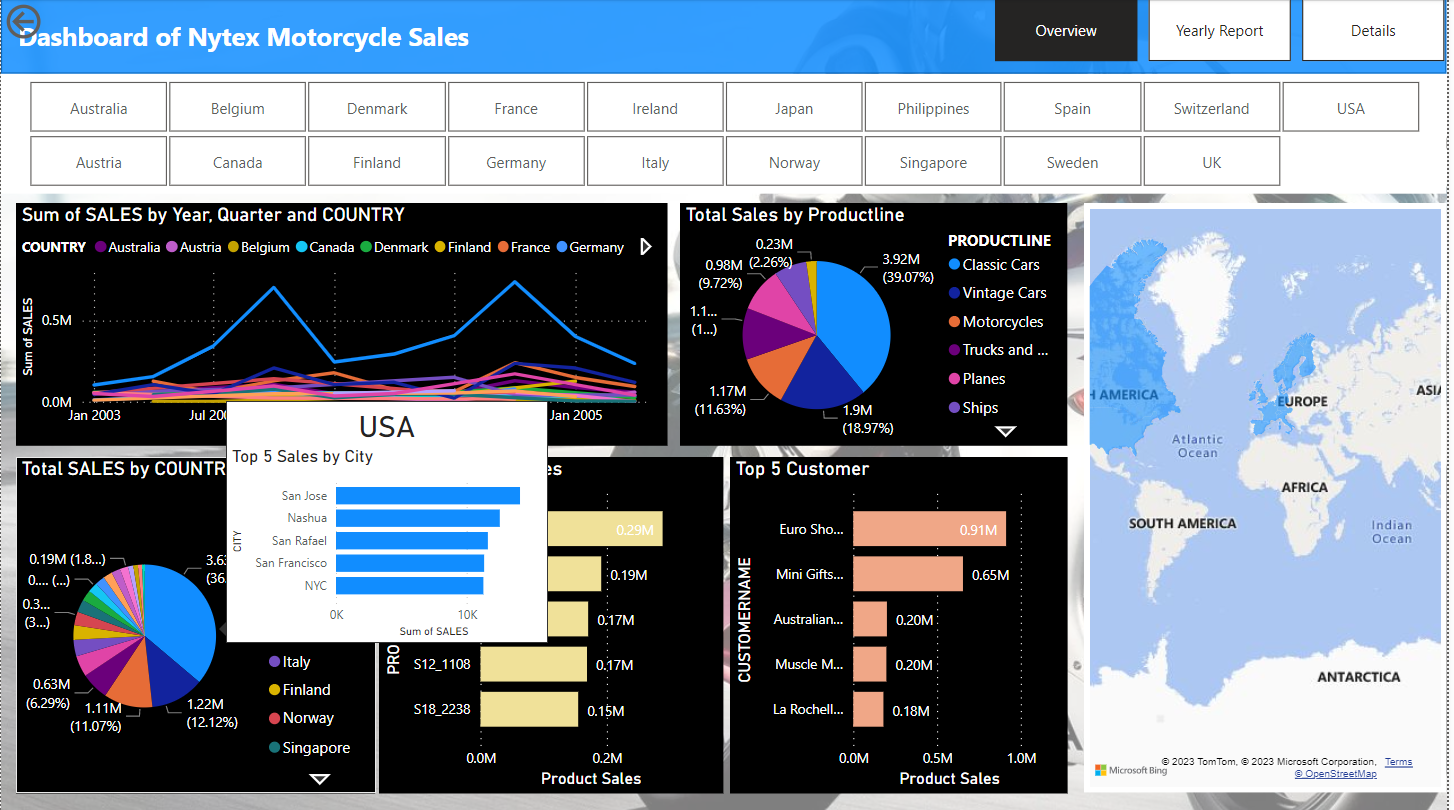

This screenshot's page, from the dashboard's own definition file:
{"tool":"powerbi","page":{"name":"Overview","canvas":[1280,720],"ordinal":0},"visuals":[{"type":"shape","title":"Data Analysis for Motorcycle Sales","box":[0,0,1280,66.1],"z":0},{"type":"pieChart","title":"Total SALES by COUNTRY","fields":{"Category":["sales_data_sample.COUNTRY"],"Y":["Sum(sales_data_sample.SALES)"]},"box":[13.6,405.6,318.1,297.6],"z":1000},{"type":"filledMap","fields":{"Category":["sales_data_sample.COUNTRY"]},"box":[959,180.9,321,522.3],"z":2000},{"type":"clusteredBarChart","title":"Top 5 Products Sales","fields":{"Category":["sales_data_sample.PRODUCTCODE"],"Y":["Sum(sales_data_sample.SALES)"]},"box":[334.6,405.6,305.4,297.6],"z":3000},{"type":"clusteredBarChart","title":"Top 5 Customer","fields":{"Y":["Sum(sales_data_sample.SALES)"],"Category":["sales_data_sample.CUSTOMERNAME"]},"box":[645.8,405.6,298.6,297.6],"z":4000},{"type":"lineChart","fields":{"Category":["sales_data_sample.ORDERDATE.Variation.Date Hierarchy.Year","sales_data_sample.ORDERDATE.Variation.Date Hierarchy.Quarter"],"Y":["Sum(sales_data_sample.SALES)"],"Series":["sales_data_sample.COUNTRY"]},"box":[13.6,180.9,576.8,215],"z":5000},{"type":"slicer","fields":{"Values":["sales_data_sample.COUNTRY"]},"box":[0,66.1,1280,106],"z":6000},{"type":"pieChart","title":"Total Sales by Productline","fields":{"Y":["Sum(sales_data_sample.SALES)"],"Category":["sales_data_sample.PRODUCTLINE"]},"box":[601.1,180.9,343.3,215],"z":7000},{"type":"pageNavigator","box":[880.2,0,399.8,55.4],"z":7001},{"type":"actionButton","box":[0,0,100,40],"z":7002}]}

Visuals, with their boxes in screenshot pixels (x1, y1, x2, y2), scaled from the page's 1280x720 canvas onto the 1454x810 screenshot:
"Data Analysis for Motorcycle Sales" shape: (x1=0, y1=0, x2=1453, y2=74)
"Total SALES by COUNTRY" pieChart: (x1=15, y1=456, x2=377, y2=791)
filledMap - sales_data_sample.COUNTRY: (x1=1089, y1=204, x2=1453, y2=791)
"Top 5 Products Sales" clusteredBarChart: (x1=380, y1=456, x2=727, y2=791)
"Top 5 Customer" clusteredBarChart: (x1=734, y1=456, x2=1073, y2=791)
lineChart - sales_data_sample.ORDERDATE.Variation.Date Hierarchy.Year x sales_data_sample.ORDERDATE.Variation.Date Hierarchy.Quarter: (x1=15, y1=204, x2=671, y2=445)
slicer - sales_data_sample.COUNTRY: (x1=0, y1=74, x2=1453, y2=194)
"Total Sales by Productline" pieChart: (x1=683, y1=204, x2=1073, y2=445)
pageNavigator: (x1=1000, y1=0, x2=1453, y2=62)
actionButton: (x1=0, y1=0, x2=114, y2=45)
